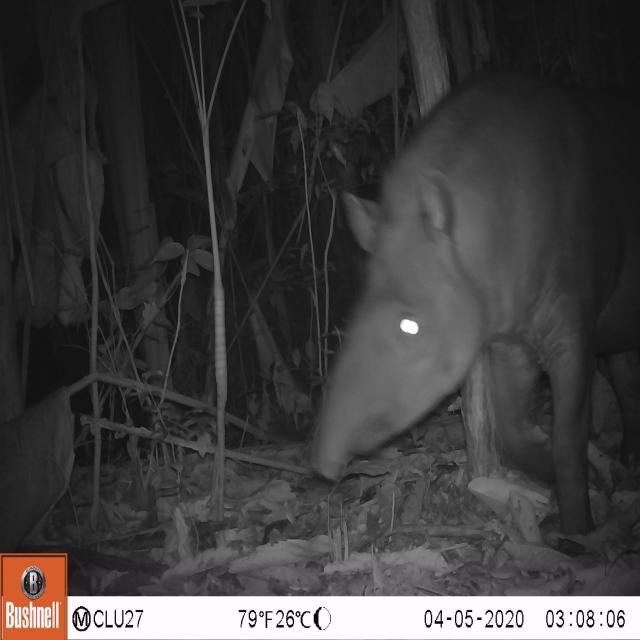Lowland Tapir: (297, 60, 640, 542)
